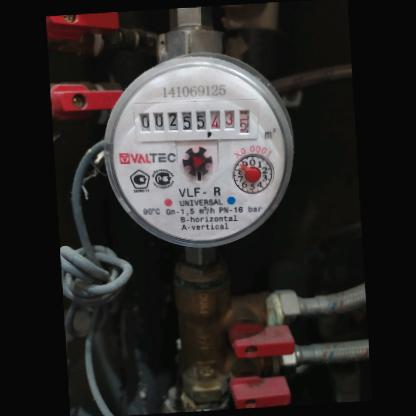digital_screen: (131, 100, 210, 141)
